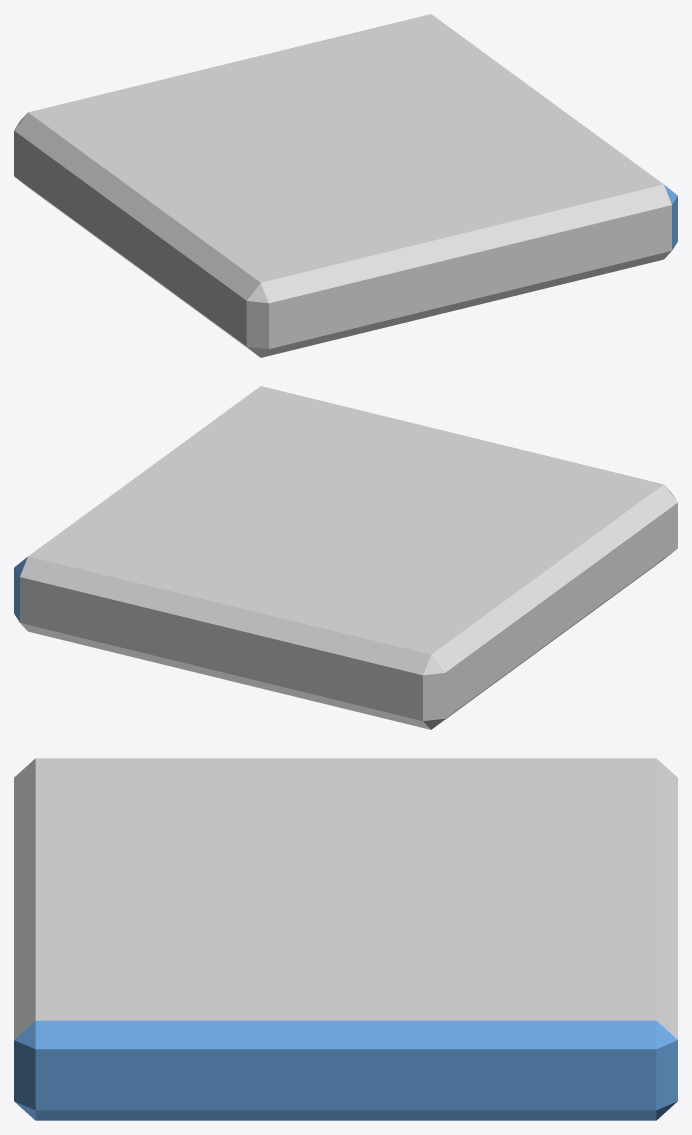
The model's file is BreakoutPaddle.fbx.
The picture shows the model from 3 angles, top to bottom: view 1: azimuth 30°, elevation 25°; view 2: azimuth 150°, elevation 25°; view 3: azimuth 270°, elevation 25°; orthographic projection. The views are drawn at different scales.
Parts seen in each view (by area): view 1: Cube; view 2: Cube; view 3: Cube.
Part boxes in pixels (left/top/right/bottom): Cube: left=14, top=14, right=677, bottom=357; Cube: left=14, top=386, right=677, bottom=729; Cube: left=14, top=758, right=677, bottom=1120.
Size of the model in its own units: 600 by 100 by 600.
